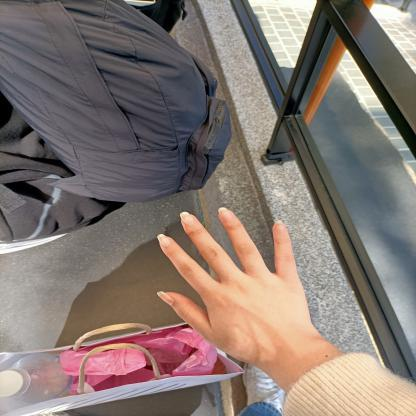bare_hand: (154, 201, 322, 368)
